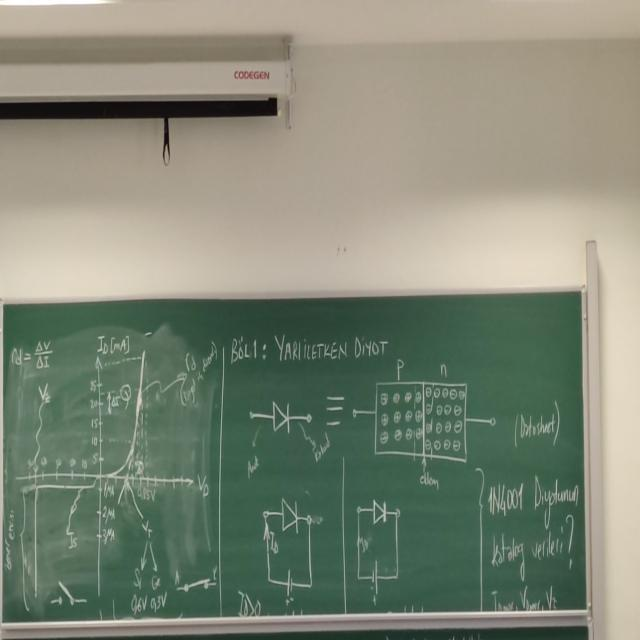image: (12, 319, 218, 615), (348, 356, 498, 465), (256, 495, 320, 609), (351, 488, 401, 600), (242, 392, 314, 451)
text: (228, 328, 390, 365), (490, 522, 576, 575), (479, 472, 581, 507), (491, 584, 562, 616), (514, 399, 562, 446)
